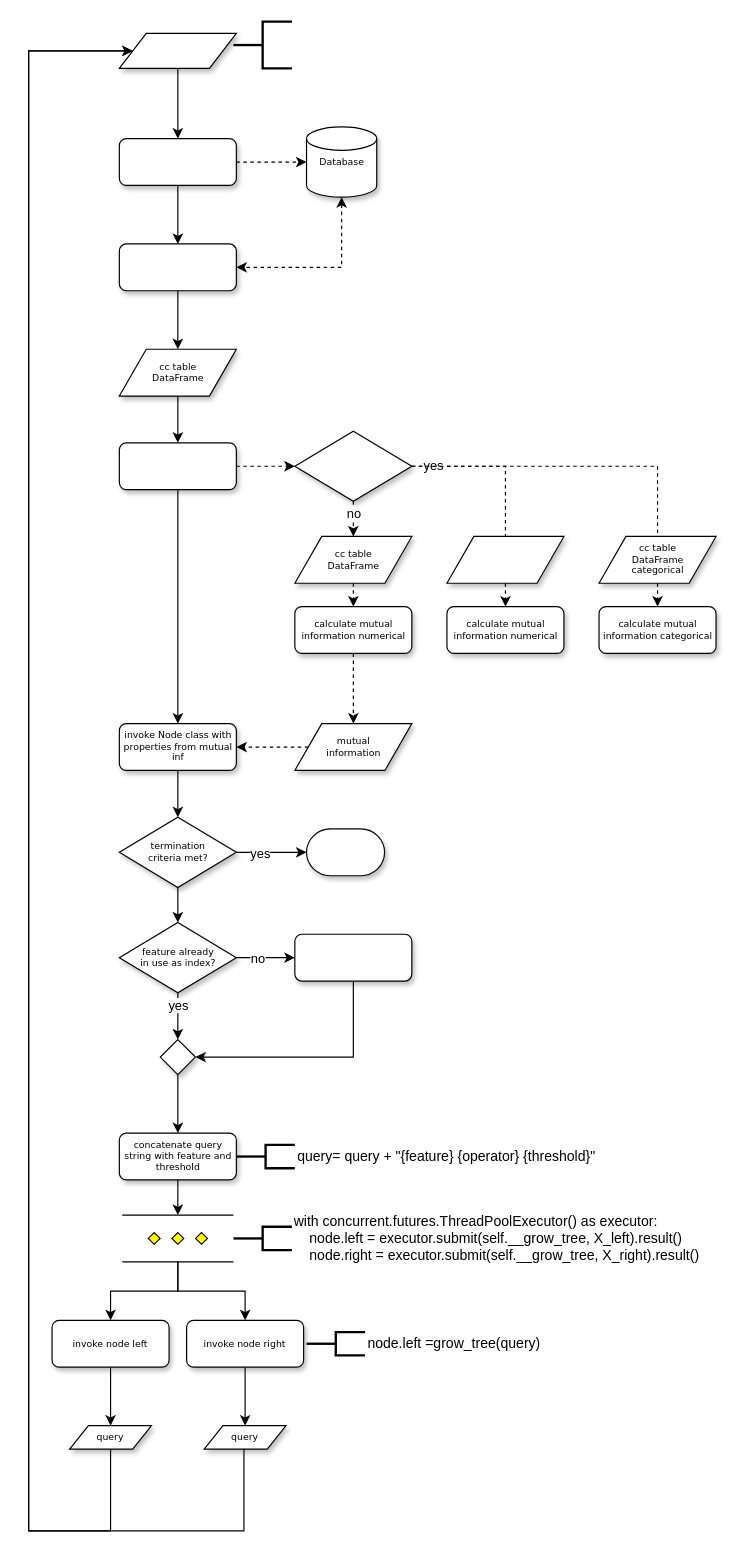
This 744x1561 diagram has some shape labels left out. Here are the shapes that lost their labels. From the top down, the centre of each, then its label:
pixel 178 52: input query
pixel 262 44: at root: query='' 2nd level and further: query=query
pixel 178 163: create CC table
pixel 178 268: get CC table
pixel 178 467: calculate mutual information
pixel 354 467: categorical features?
pixel 506 561: cc table DataFrame numerical
pixel 346 853: return node
pixel 354 958: create index with feature appended to last entry in dictionary
